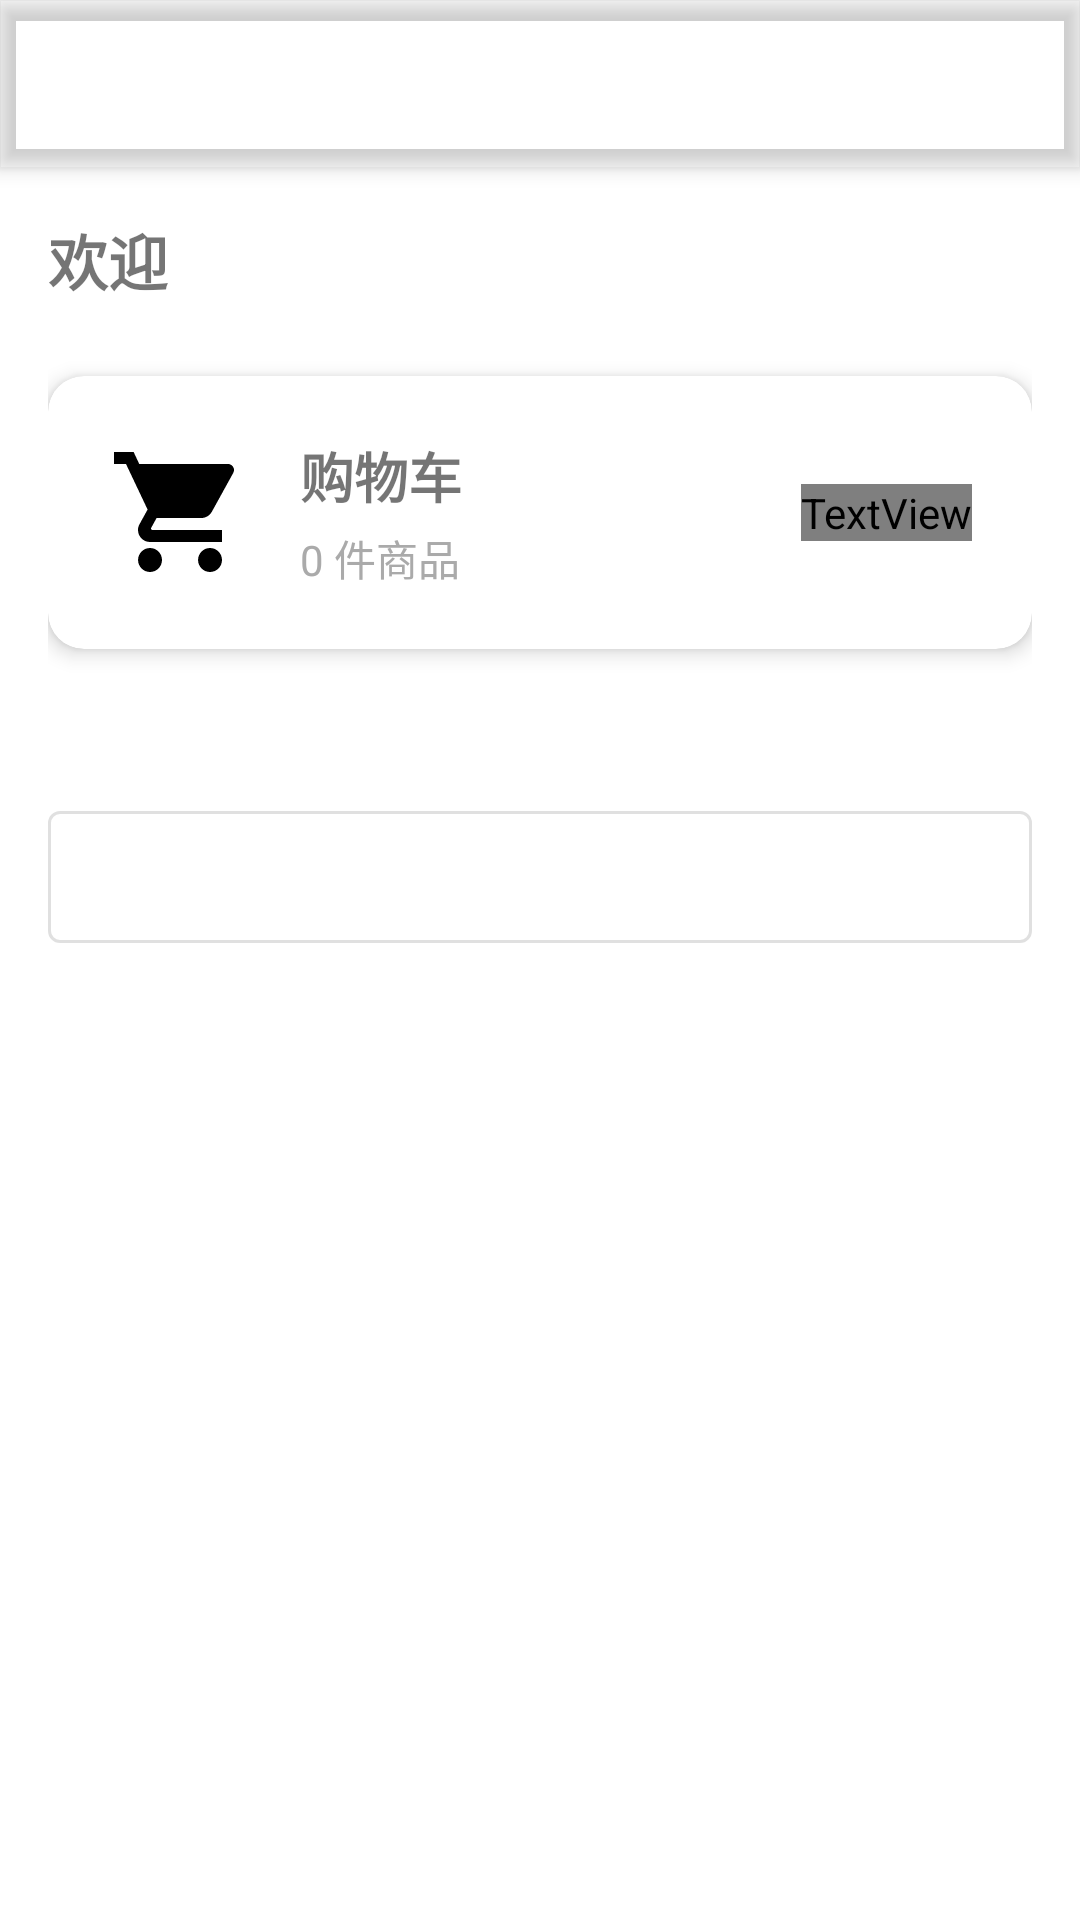

Locate icon controls on the screen. Image size 1080px×1920px, boxes as box(x1, y1, x2, y2).
cart: box(114, 452, 234, 572)
